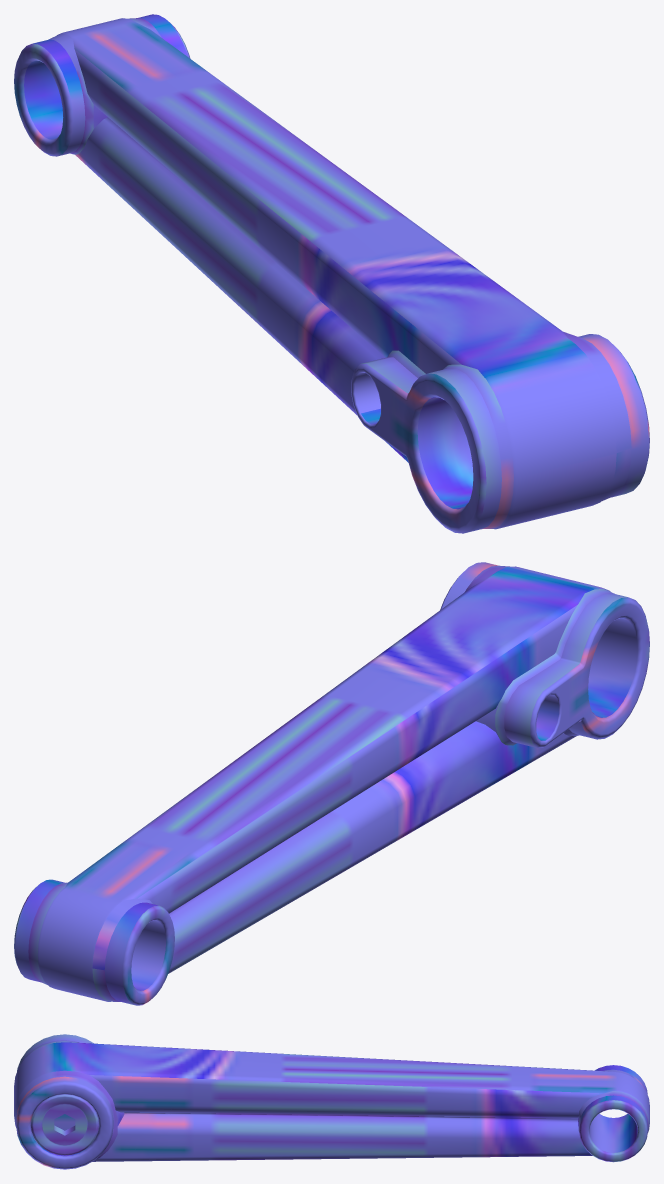
The model's file is BMX_CrankArm_Me The Person_Divide 160mm.fbx.
3 renders of one model, top to bottom at view 1: azimuth 30°, elevation 25°; view 2: azimuth 150°, elevation 25°; view 3: azimuth 270°, elevation 25°, orthographic. The views are drawn at different scales.
Visible parts, largest first — view 1: BMX_CrankArm_MeThePerson_Divide160mm; view 2: BMX_CrankArm_MeThePerson_Divide160mm; view 3: BMX_CrankArm_MeThePerson_Divide160mm.
Part boxes in pixels (x1,y1,x2,y2): BMX_CrankArm_MeThePerson_Divide160mm: (14,14,649,533); BMX_CrankArm_MeThePerson_Divide160mm: (14,562,649,1005); BMX_CrankArm_MeThePerson_Divide160mm: (14,1034,649,1169).
Size of the model in its own units: 3.76 by 2.96 by 18.53.
Materials: 1 (1 with a texture image).
